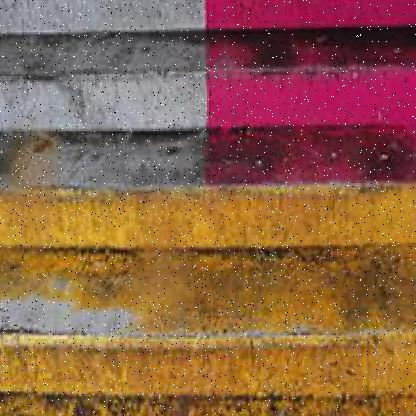stair_up: (0, 56, 392, 388)
